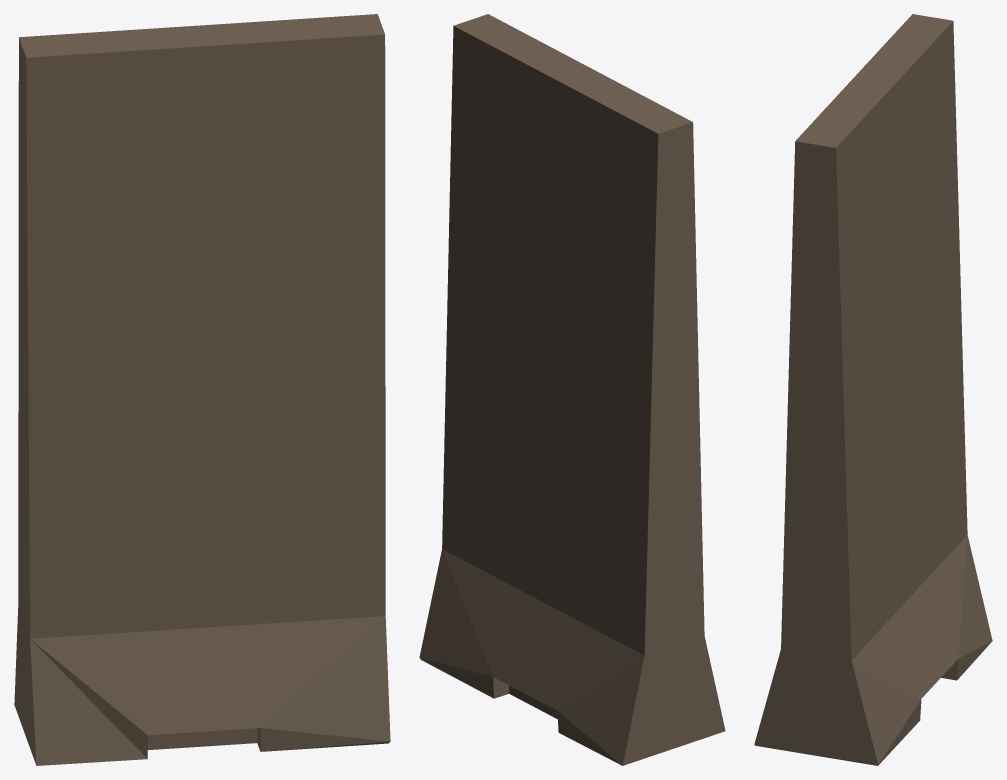
The model's file is wall-barrier.lod2.glb.
The picture shows the model from 3 angles, left to right: view 1: azimuth 30°, elevation 25°; view 2: azimuth 150°, elevation 25°; view 3: azimuth 270°, elevation 25°; orthographic projection. The views are drawn at different scales.
Visible parts, largest first — view 1: Object_12; view 2: Object_12; view 3: Object_12.
Boxes of the visible parts, x1,y1,x2,y2 form: Object_12: (14, 14, 390, 765); Object_12: (419, 14, 725, 765); Object_12: (754, 14, 992, 765).
Size of the model in its own units: 1.01 by 1.97 by 0.6955.
